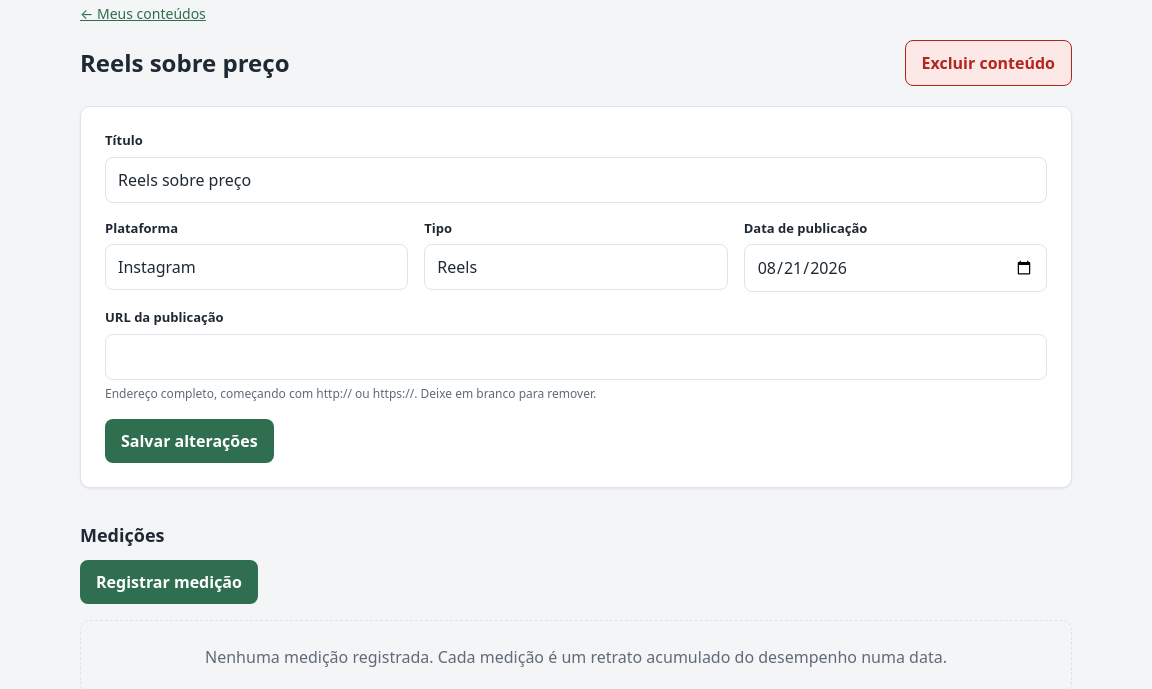
Scenario: ConteudoDetalhe — resposta obsoleta › a data padrão da medição é a de quando o formulário abre
Click the button "Registrar medição" at [169, 582], box [80,560,258,604]
(page scrolled)
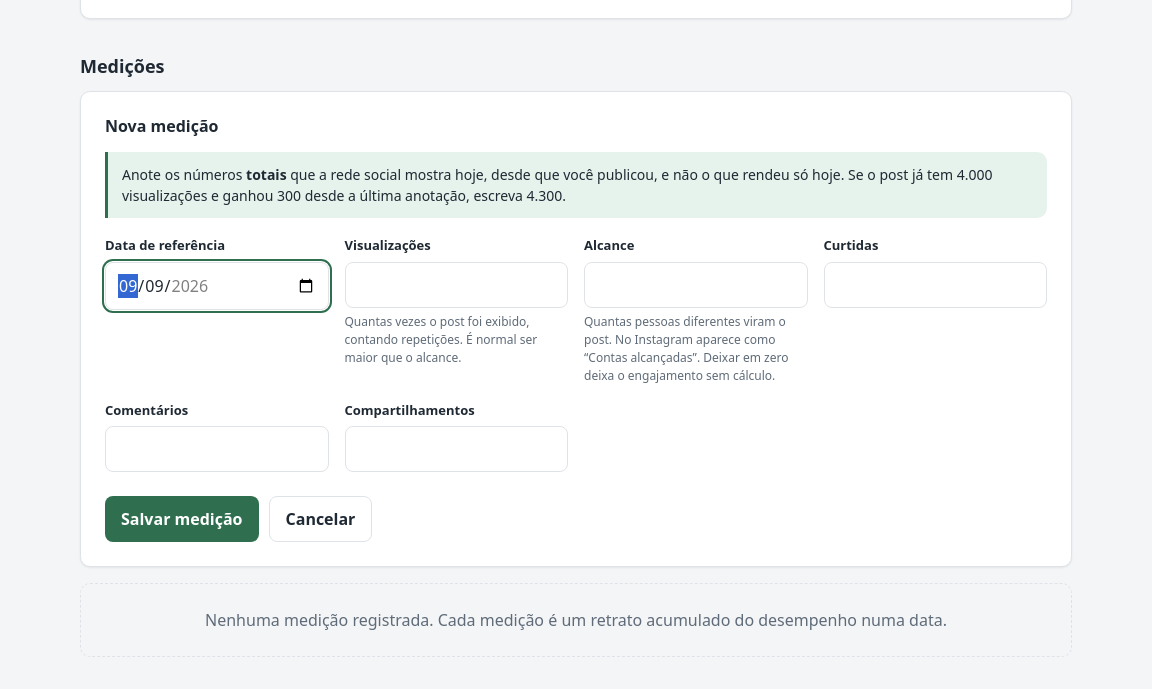
expect the date field labelled "Data de referência" holds "2026-09-09": met, box [105,262,328,310]
Click the button "Cancelar" at [320, 519], box [268,496,372,542]
(page scrolled)
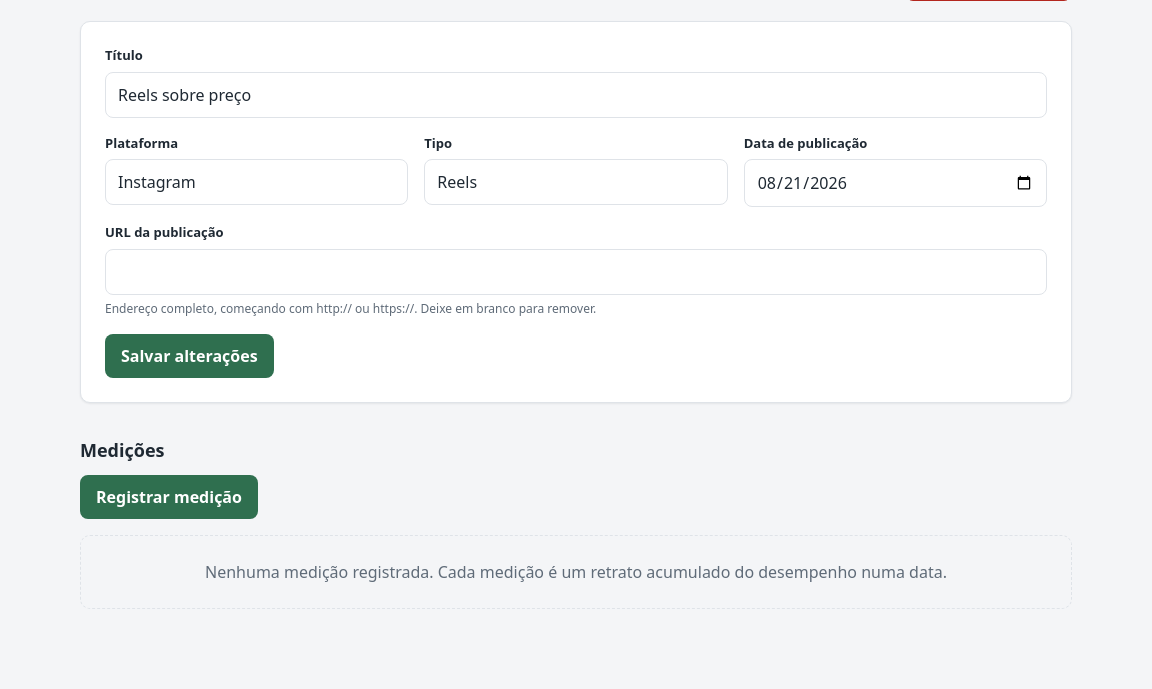
Click the button "Registrar medição" at [169, 497], box [80,475,258,519]
(page scrolled)
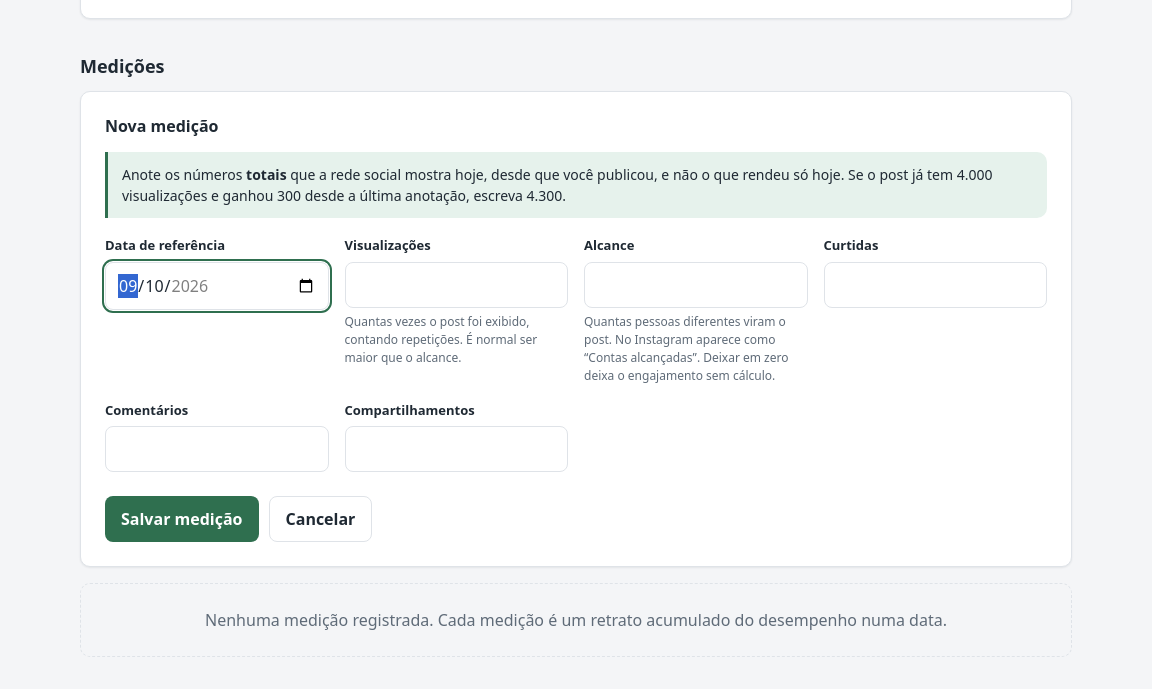
expect the date field labelled "Data de referência" holds "2026-09-10": met, box [105,262,328,310]
